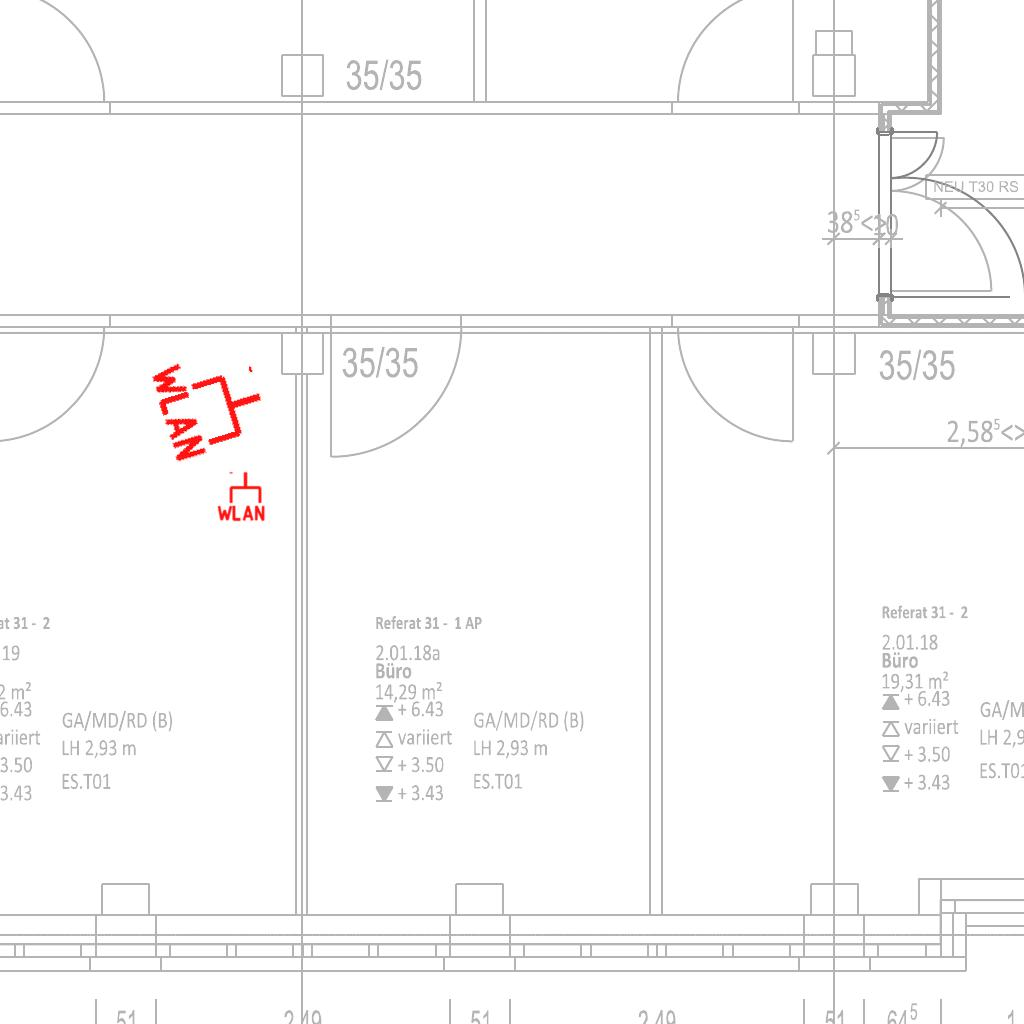WLAN: (146, 336, 277, 468), (215, 470, 267, 522)
